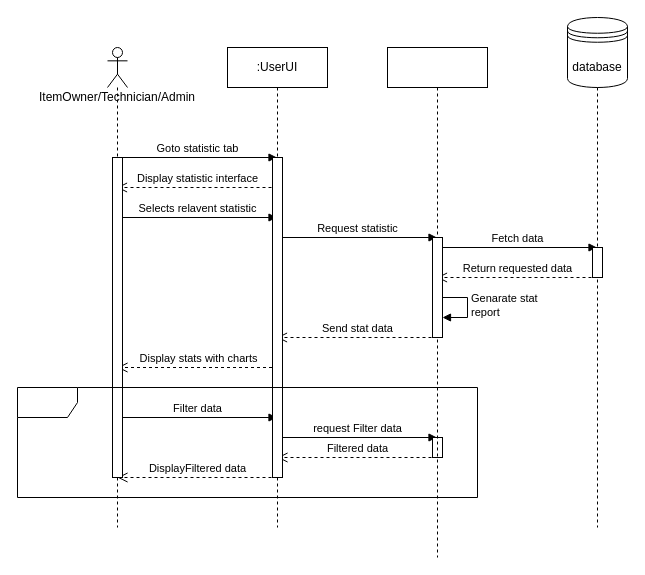
This 645x575 diagram has some shape labels left out. The shapes that lost their labels are listed below. From the top down, each one's centre as x and y in pixels, then its label:
At point 437,302: "Report generator".
At point 247,442: "Opt".
